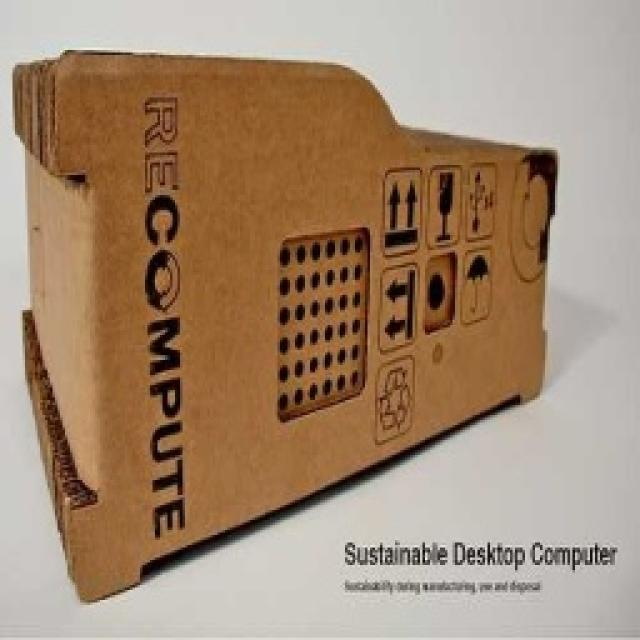box: (5, 38, 572, 606)
